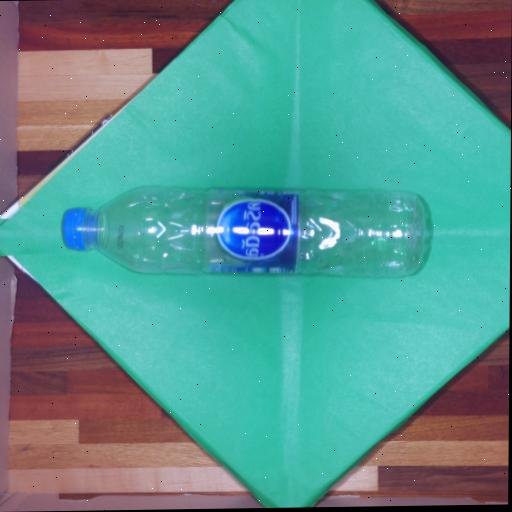bottle: (62, 180, 433, 288)
